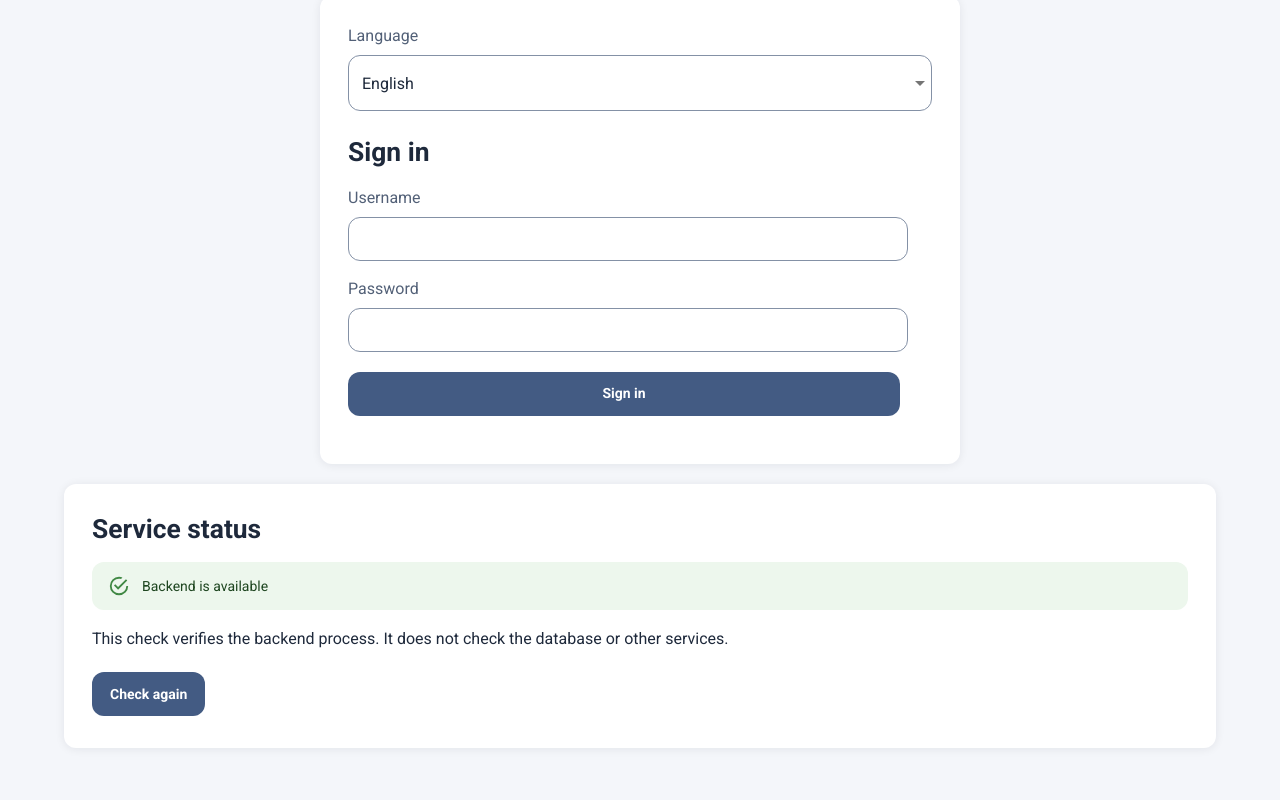
Test: does not show stale success after a failed recheck
(page scrolled)
Expected: the text "Backend is available" is shown, [142,578,268,594]
Click the button "Check again" at (149, 694), box [92,672,205,716]
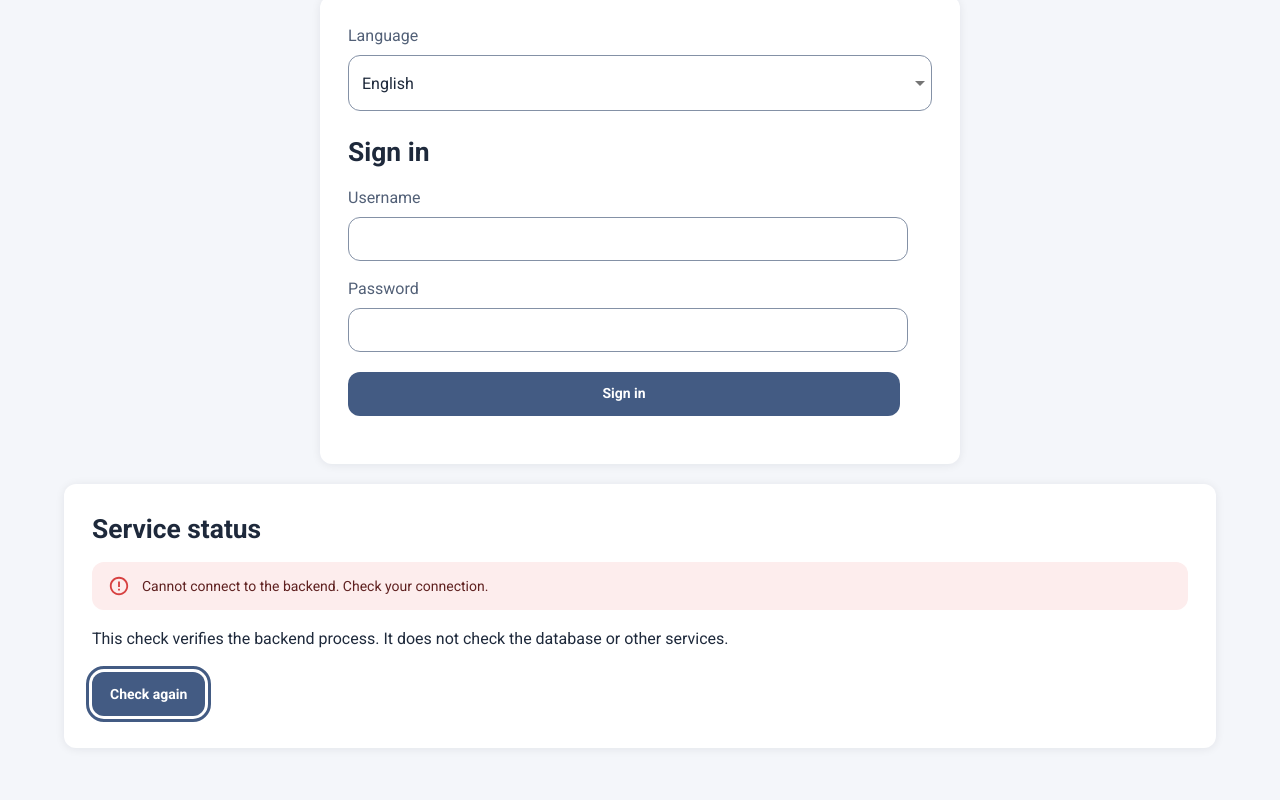
Expected: the message shows "Cannot connect to the backend", [142,578,488,594]
Expected: the text "Backend is available" is gone
